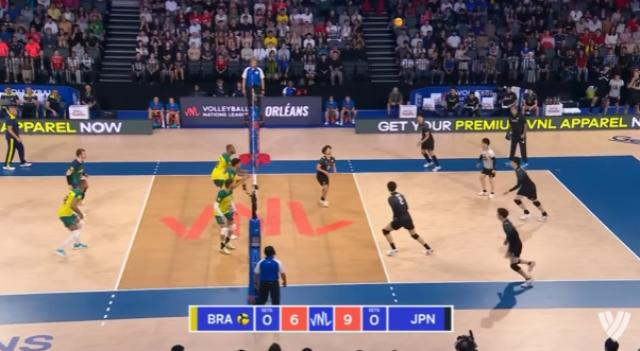Levantador: (207, 176, 241, 256), (314, 142, 342, 208)
Libero: (63, 136, 95, 196), (471, 136, 501, 196)
bola: (389, 14, 406, 32)
